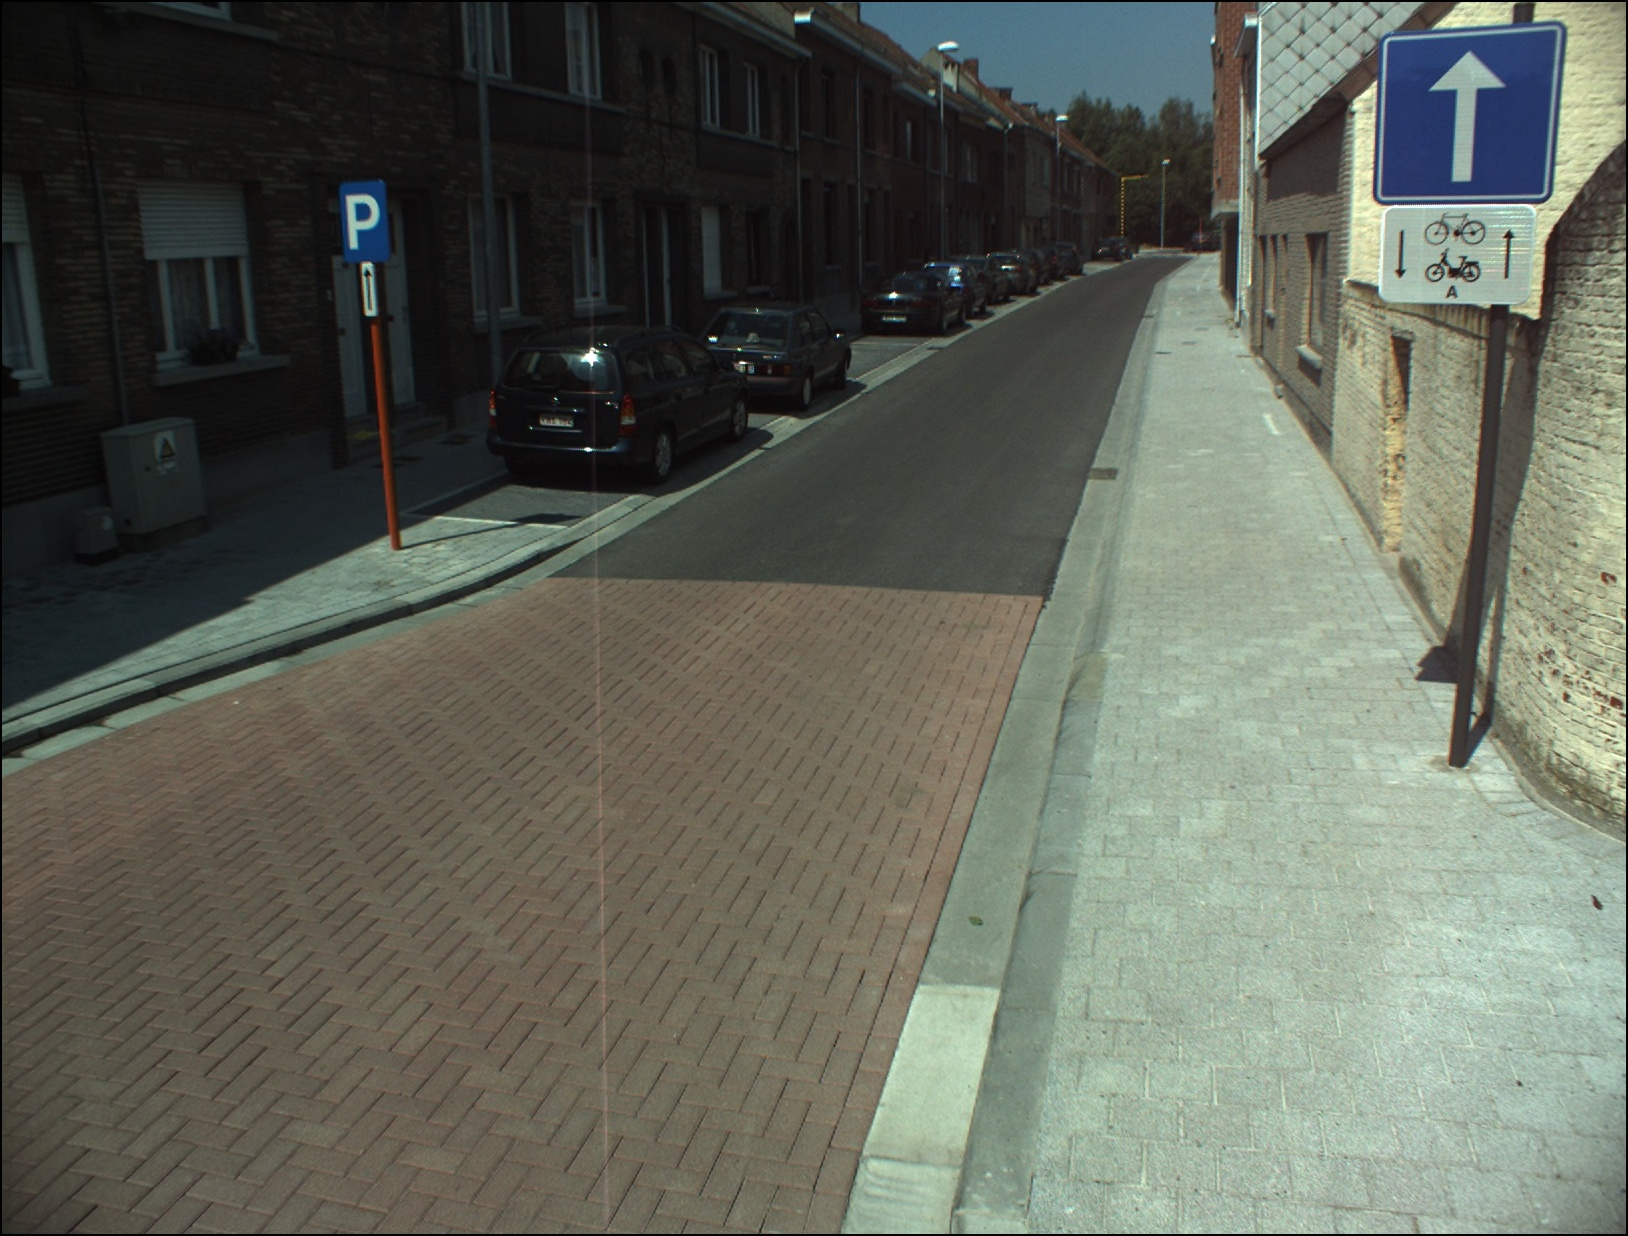oneway: (1374, 25, 1563, 200)
parking: (339, 184, 389, 261)
